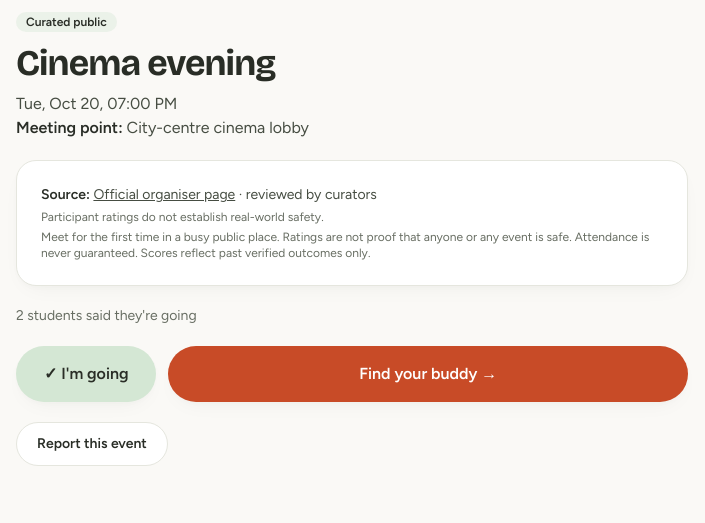
Test: ActivityDetail › withdraws an RSVP and updates the count
Click the button "✓ I'm going".
click(86, 374)  # box x1=16 y1=346 x2=156 y2=402
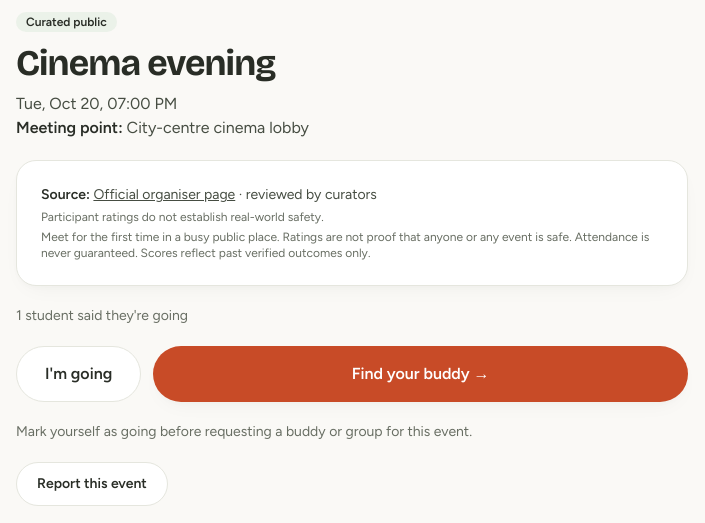
Check: the text "1 student said they're going" is shown, box x1=16 y1=306 x2=491 y2=324
